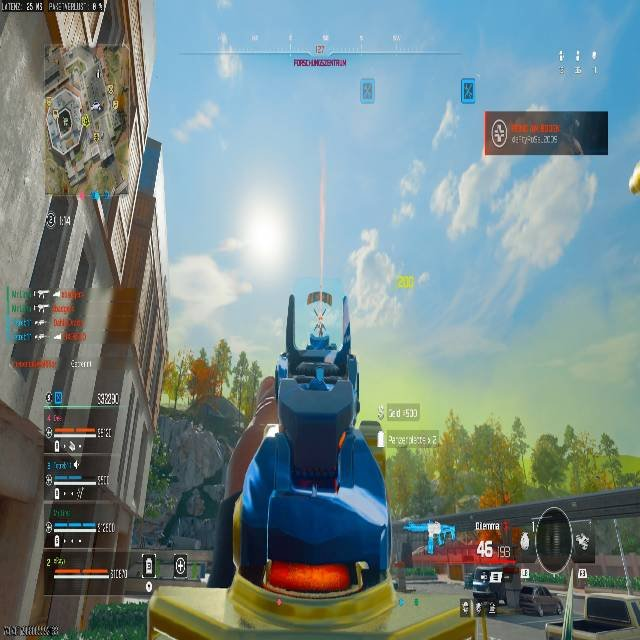player: (346, 229, 401, 329)
